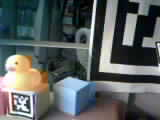duck: (4, 47, 49, 99)
